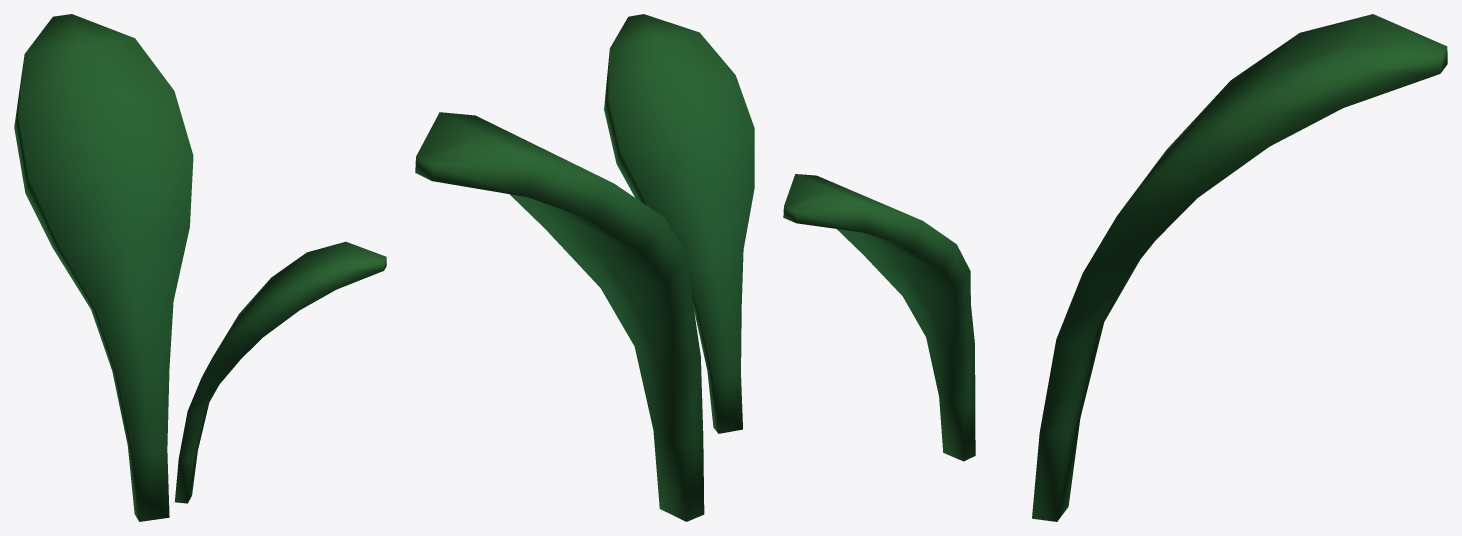
The model's file is flowerleaves4.fbx.
The picture shows the model from 3 angles, left to right: view 1: azimuth 30°, elevation 25°; view 2: azimuth 150°, elevation 25°; view 3: azimuth 270°, elevation 25°; orthographic projection. The views are drawn at different scales.
Parts seen in each view (by area): view 1: Cylinder.026; view 2: Cylinder.026; view 3: Cylinder.026.
Part boxes in pixels (x1,y1,x2,y2): Cylinder.026: (14, 14, 386, 521); Cylinder.026: (415, 14, 754, 521); Cylinder.026: (783, 14, 1447, 521).
Size of the model in its own units: 4.53 by 8.49 by 10.19.
